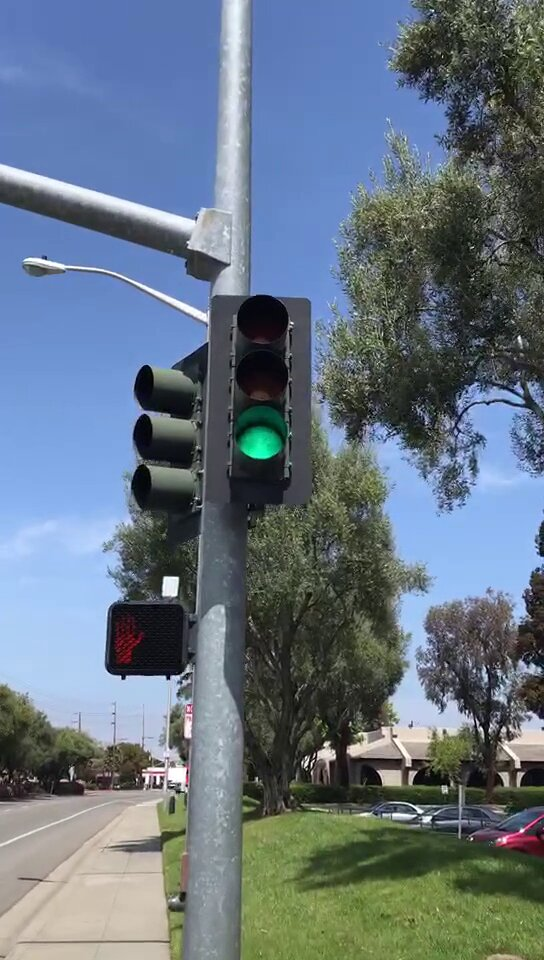green_light: (211, 296, 309, 501)
